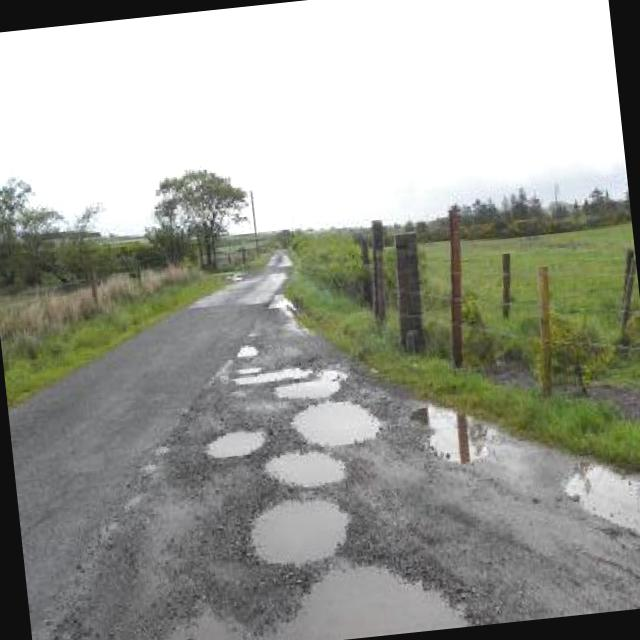Lubang: (272, 559, 467, 640), (251, 499, 347, 564), (292, 401, 380, 443), (265, 451, 344, 485), (168, 610, 248, 640), (274, 370, 347, 398), (206, 432, 264, 458), (234, 367, 311, 385), (237, 344, 258, 356)
